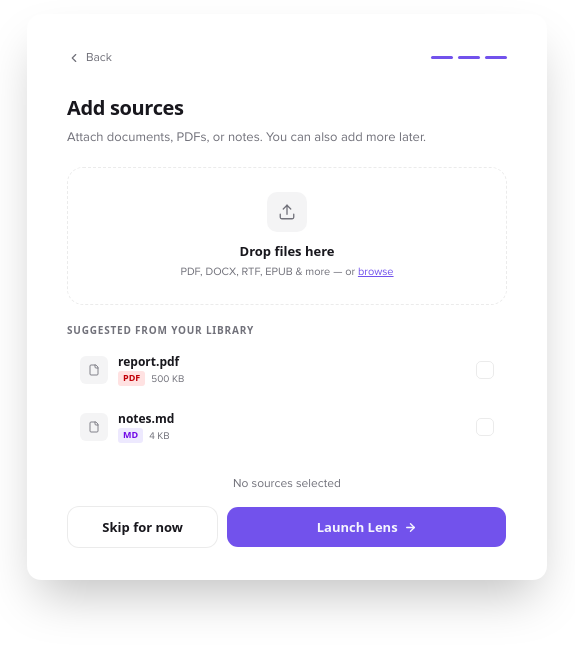
AddSources › toggling a selected suggestion removes it from selectedSources
Click the button with aria-label "select report.pdf" at [149, 362], box [67,343,507,396]
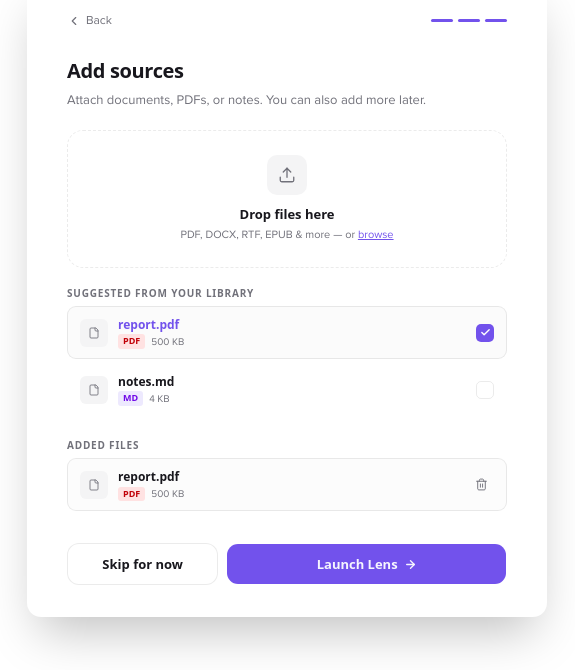
Click the button with aria-label "deselect report.pdf" at [149, 325], box [67,306,507,359]
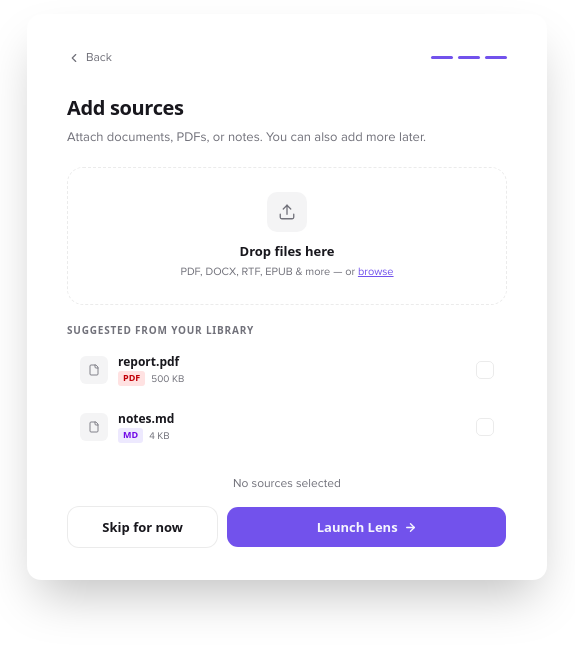
Expected: the text "No sources selected" is shown, [233,476,341,491]
